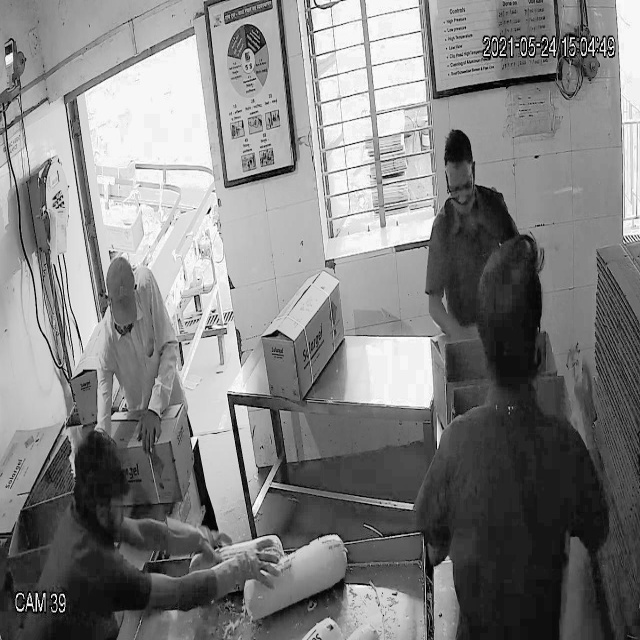Gafas: (442, 166, 479, 204)
